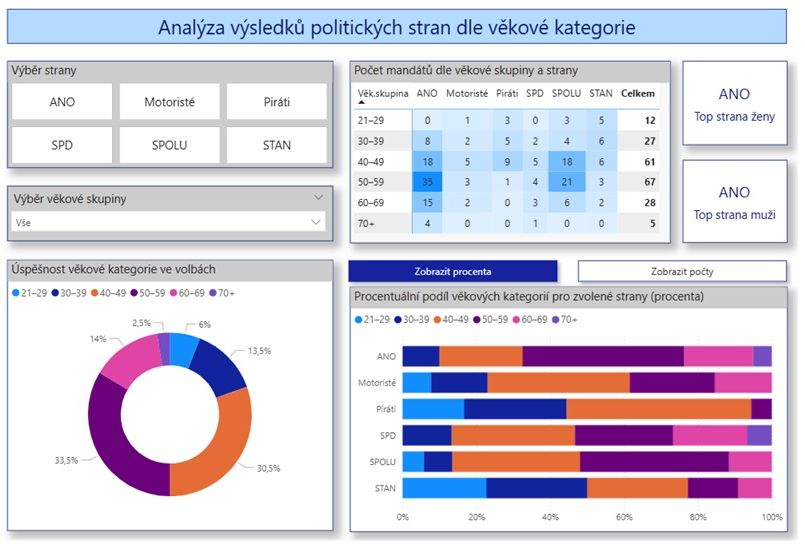

The page's visual inventory and layout, read from the dashboard file:
{"tool":"powerbi","page":{"name":"Analýza dle věku","canvas":[1100,800],"ordinal":2},"visuals":[{"type":"actionButton","box":[1040.8,745.9,59.8,54.3],"z":0},{"type":"actionButton","box":[0,745.9,58.4,54.3],"z":1000},{"type":"textbox","box":[20.6,23.1,1060.2,47.4],"z":2000},{"type":"hundredPercentStackedBarChart","title":"Procentuální podíl věkových kategorií pro zvolené strany (procenta)","fields":{"Y":["Sum(Fact_Demografie.Pocet)"],"Category":["Dim_Strana.Strana_ID"],"Series":["Dim_Vekova_Skupina.Vek_Skupina_ID"]},"box":[485.9,400.2,595,333.5],"z":3000},{"type":"slicer","title":"Výběr kraje","fields":{"Values":["Dim_Vekova_Skupina.Vek_Skupina_ID"]},"box":[20.6,263.5,443.3,75.3],"z":4000},{"type":"advancedSlicerVisual","title":"Výběr strany","fields":{"Values":["Dim_Strana.Strana_ID"]},"box":[20.6,93.5,443.3,145.7],"z":5000},{"type":"pivotTable","title":"Počet mandátů dle věkové skupiny a strany","fields":{"Rows":["Dim_Vekova_Skupina.Vek_Skupina_ID"],"Columns":["Dim_Strana.Strana_ID"],"Values":["Sum(Fact_Demografie.Pocet)"]},"box":[485.8,93.5,436,247.7],"z":6000},{"type":"donutChart","title":"Úspěšnost věkové kategorie ve volbách","fields":{"Category":["Dim_Vekova_Skupina.Vek_Skupina_ID"],"Y":["Sum(Fact_Demografie.Pocet)"]},"box":[20.6,364.3,443.3,369.2],"z":7000},{"type":"card","fields":{"Values":["Fact_Celostatni.Top_strana_muzi"]},"box":[938.7,228.3,142.1,112.9],"z":8000},{"type":"card","fields":{"Values":["Fact_Celostatni.Top_strana_zeny"]},"box":[938.7,93.5,142.1,114.2],"z":9000},{"type":"bookmarkNavigator","box":[475.4,355.7,615.1,47.6],"z":11000}]}

Visuals, with their boxes on the page's 1100x800 design canvas (x1, y1, x2, y2). These are canvas units, not pixel positions in the 805x546 screenshot, which may show the page scaled, cropped or inside an application window:
actionButton: select_region(1041, 746, 1101, 800)
actionButton: select_region(0, 746, 58, 800)
textbox: select_region(21, 23, 1081, 70)
"Procentuální podíl věkových kategorií pro zvolené strany (procenta)" hundredPercentStackedBarChart: select_region(486, 400, 1081, 734)
"Výběr kraje" slicer: select_region(21, 264, 464, 339)
"Výběr strany" advancedSlicerVisual: select_region(21, 94, 464, 239)
"Počet mandátů dle věkové skupiny a strany" pivotTable: select_region(486, 94, 922, 341)
"Úspěšnost věkové kategorie ve volbách" donutChart: select_region(21, 364, 464, 734)
card - Fact_Celostatni.Top_strana_muzi: select_region(939, 228, 1081, 341)
card - Fact_Celostatni.Top_strana_zeny: select_region(939, 94, 1081, 208)
bookmarkNavigator: select_region(475, 356, 1090, 403)
